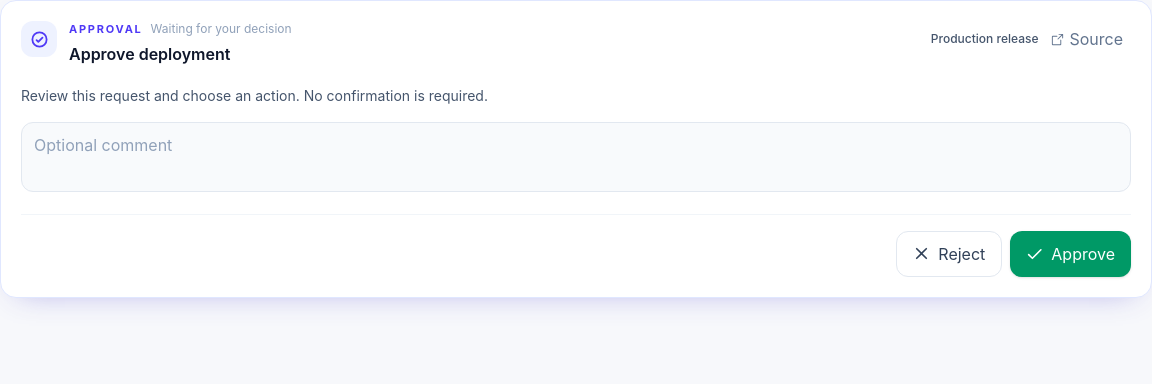
Test: DecisionCard › shows a stale banner and asks the inbox to refetch
Click the button "Approve".
click(1071, 254)  # box x1=1010 y1=230 x2=1131 y2=276
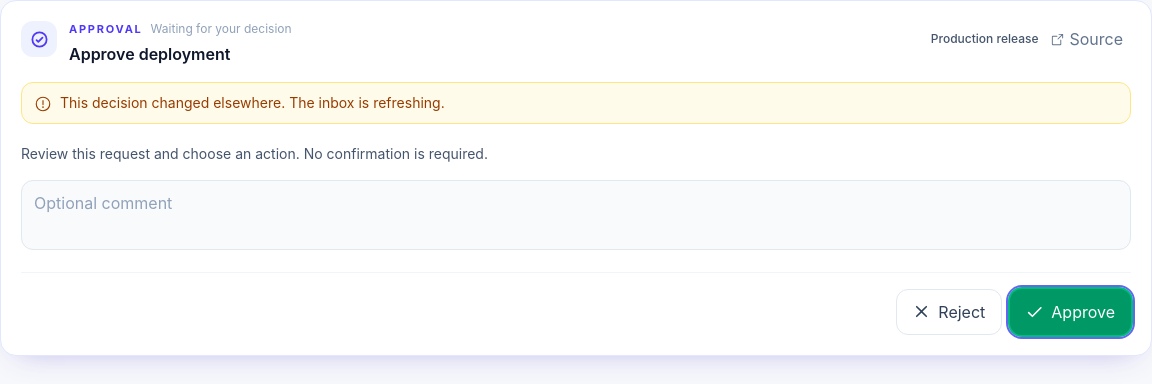
Check: the message shows "changed elsewhere", box x1=60 y1=94 x2=445 y2=110
